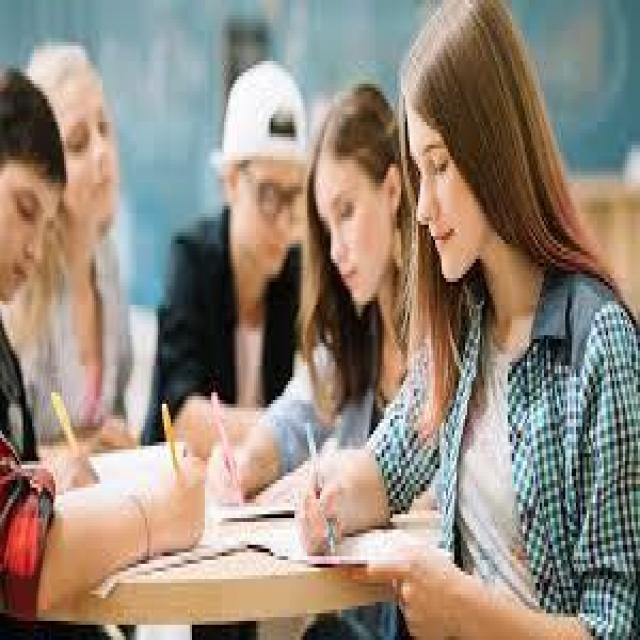person: (380, 0, 631, 636), (286, 65, 427, 465), (30, 8, 151, 442), (190, 42, 316, 411), (4, 50, 66, 594)
